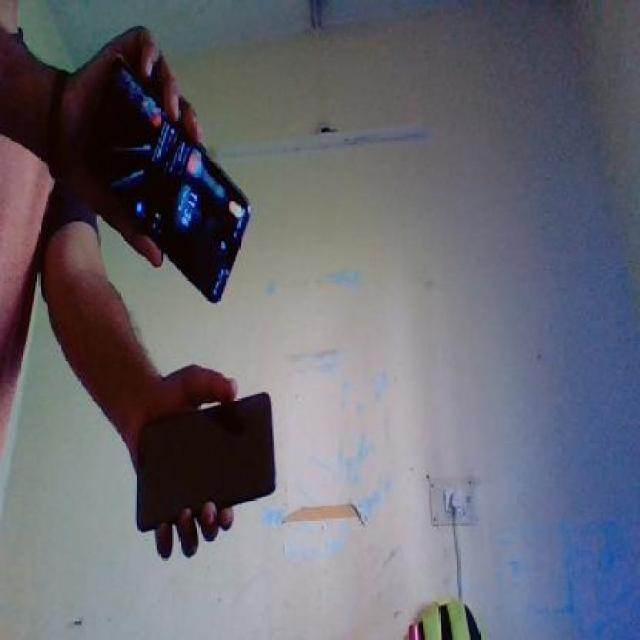Phone: (74, 55, 252, 312), (133, 388, 280, 536)
